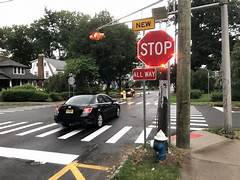stop: (136, 29, 175, 66)
